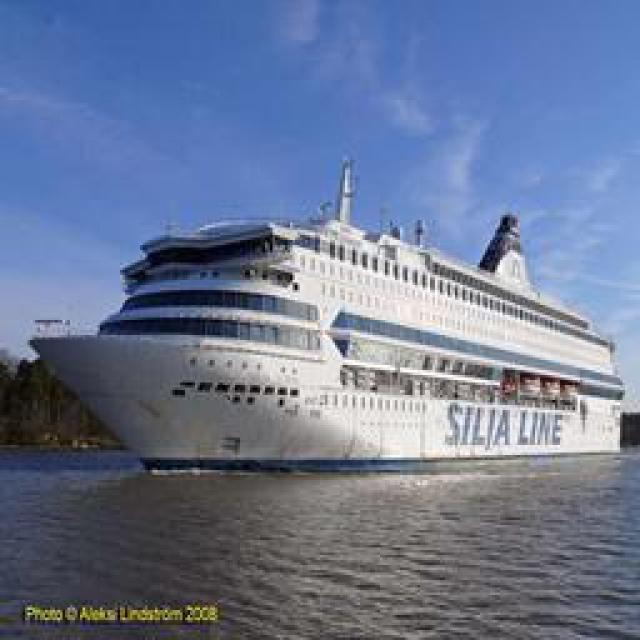Ship: (32, 187, 622, 467)
